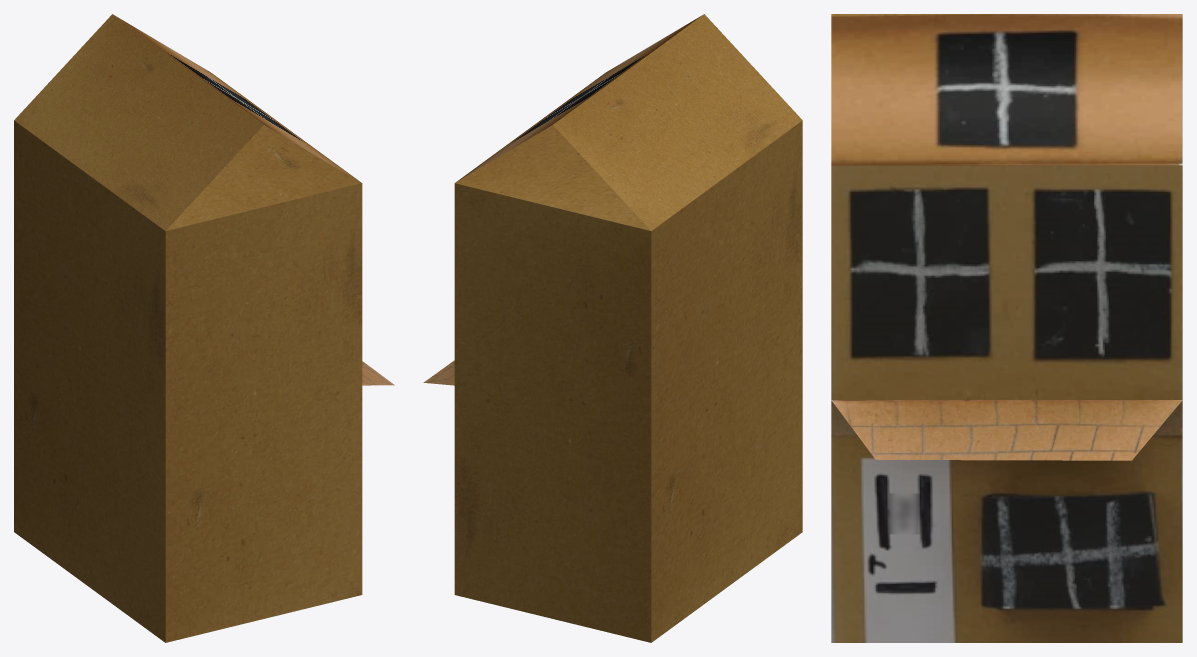
3 renders of one model, left to right at view 1: azimuth 30°, elevation 25°; view 2: azimuth 150°, elevation 25°; view 3: azimuth 270°, elevation 25°, orthographic. The views are drawn at different scales.
Visible parts, largest first — view 1: Cube, Cube.002; view 2: Cube, Cube.002; view 3: Cube, Cube.002.
Part boxes in pixels (<box>): Cube: <box>14,120,394,642</box>; Cube.002: <box>14,14,361,230</box>; Cube: <box>423,120,802,642</box>; Cube.002: <box>455,14,802,230</box>; Cube: <box>831,165,1182,642</box>; Cube.002: <box>831,14,1182,165</box>.
Size of the model in its own units: 9.53 by 18 by 10.
1 material, 1 textured.
